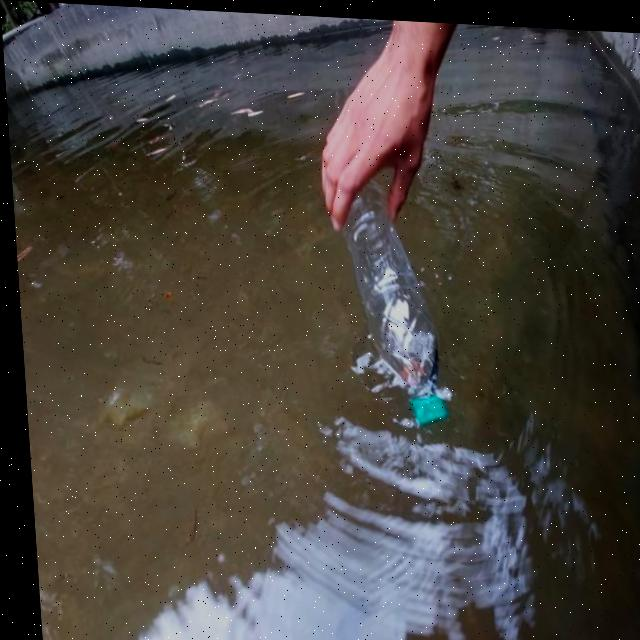waterbottle: (310, 164, 461, 434)
